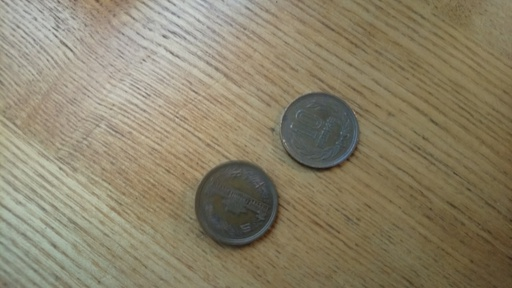10yen: (196, 162, 277, 246), (281, 93, 357, 169)
